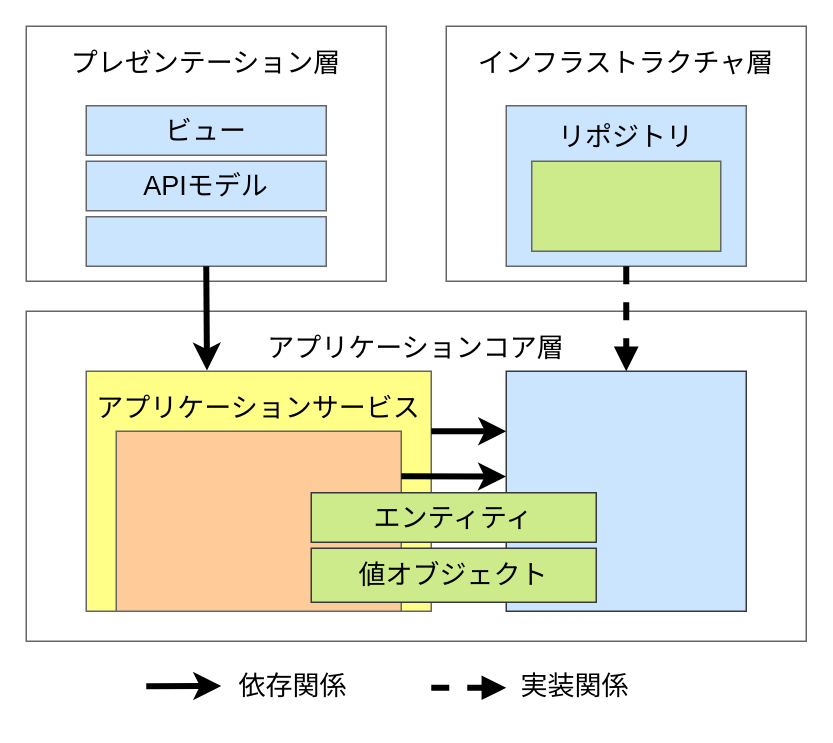
Image size: 833x743. Some labels were removed from this diagram. Here are the shapes that lost their labels. From the top down, the centre of each, then its label:
At point 625,205: "テーブル エンティティ".
At point 205,240: "コントローラー".
At point 625,490: "リポジトリ インターフェース".
At point 258,520: "ドメインサービス".
